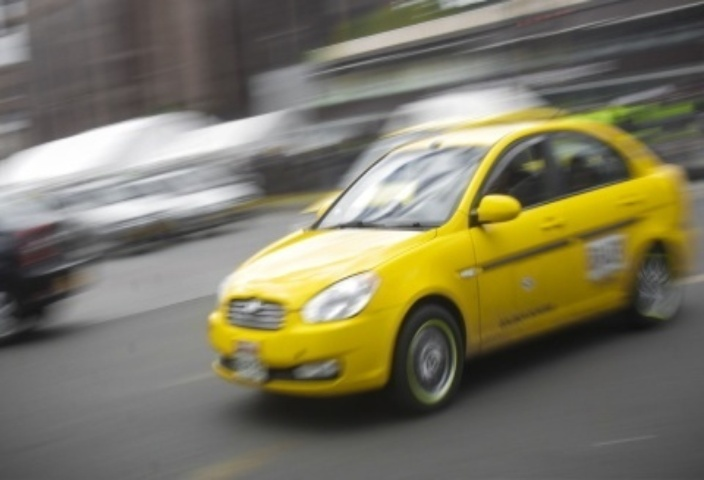taxi: (184, 117, 695, 405)
